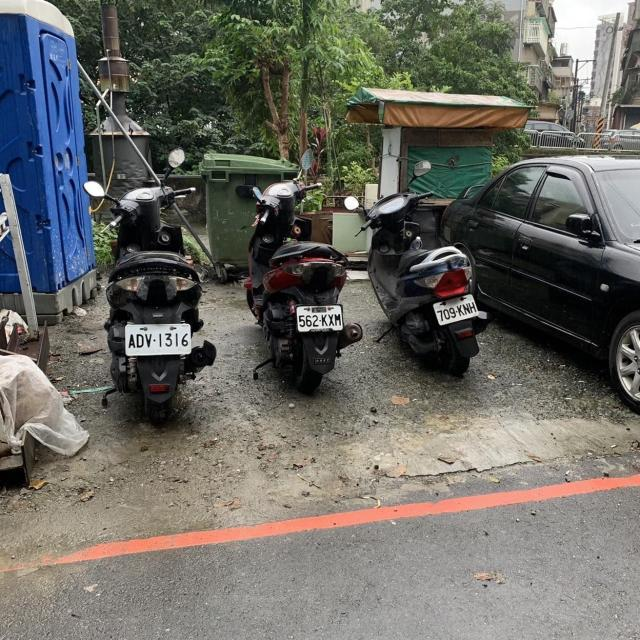W: (124, 322, 191, 356), (428, 292, 482, 328), (294, 303, 348, 335)
